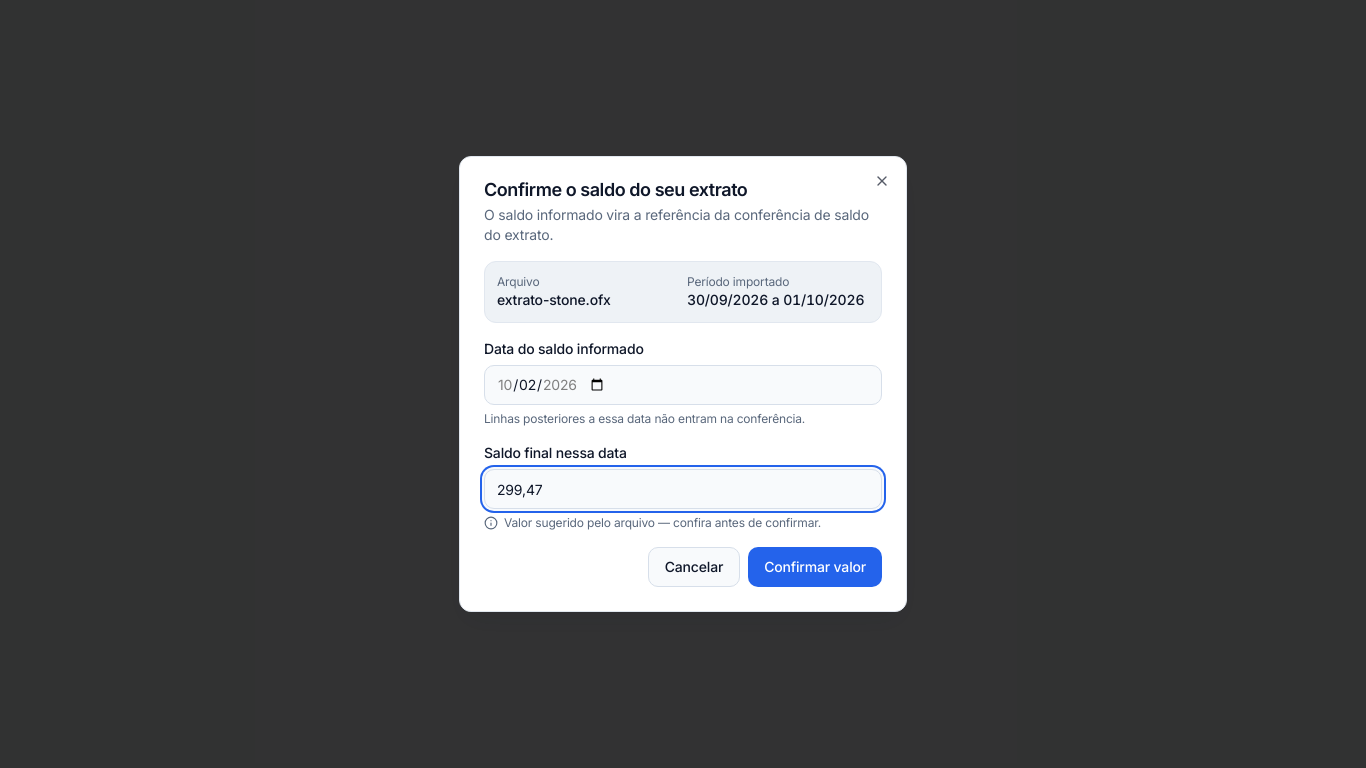
Test case: ConfirmarSaldoExtratoDialog — saldo inicial cadastrado com o saldo de hoje › sem permissão para editar contas, explica a causa sem oferecer o ajuste
Expected: the field labelled "Saldo final nessa data" holds "299,47", [484,469,882,509]
Click the button "Confirmar valor".
click(815, 567)  # box [748,547,882,587]
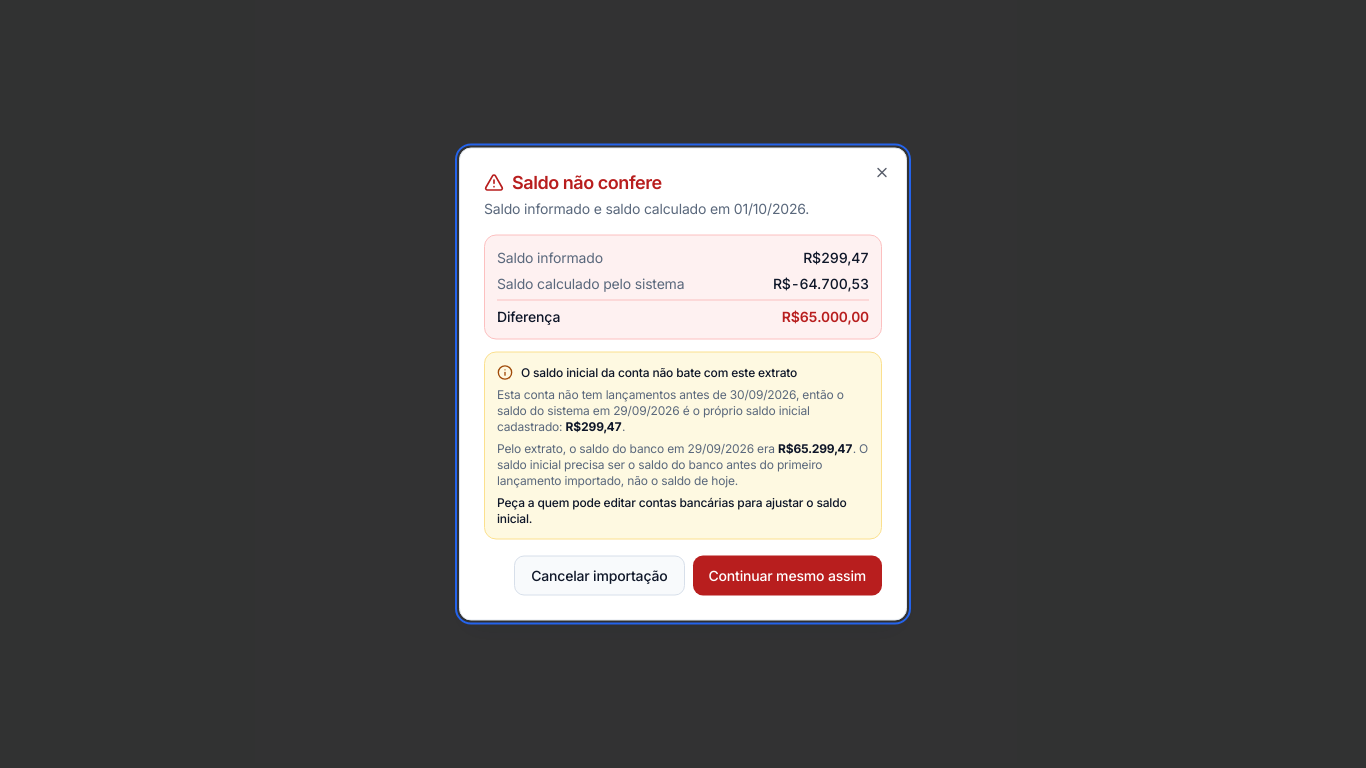
Now the element "O saldo inicial da conta não bate com este extrato" shows "Peça a quem pode editar contas bancárias para ajustar o saldo inicial.", box [497,494,846,526]
Now the button "Continuar mesmo assim" is shown, box [692,556,882,596]
